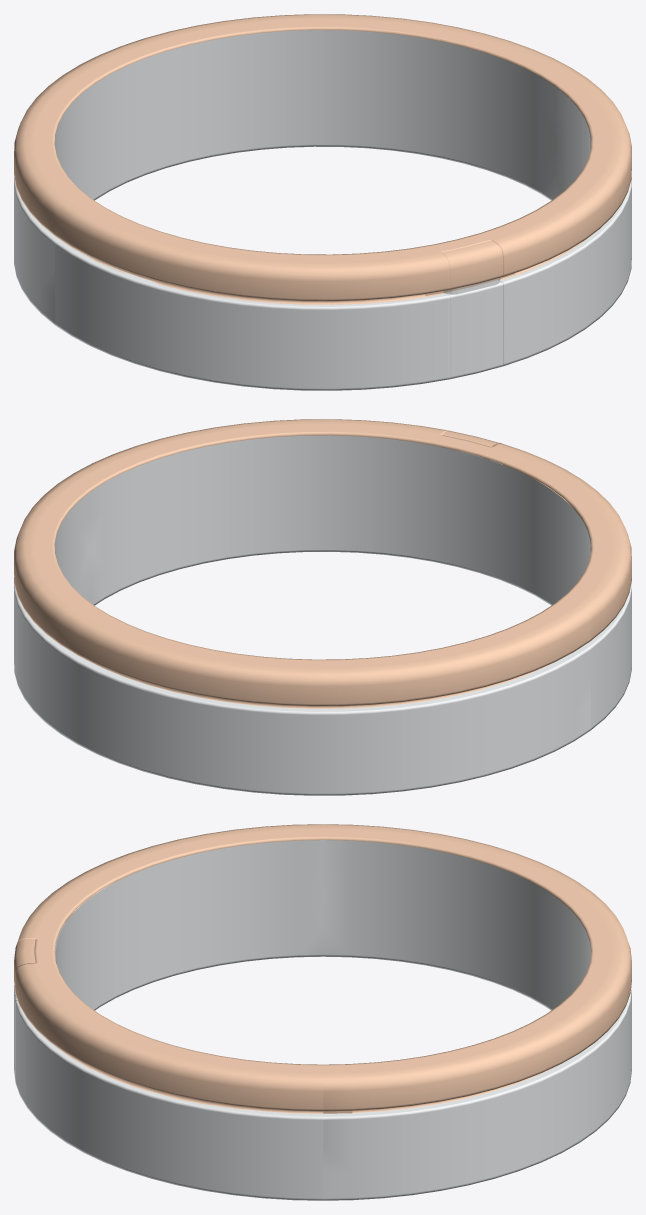
3 views of the same model, one above another, from view 1: azimuth 30°, elevation 25°; view 2: azimuth 150°, elevation 25°; view 3: azimuth 270°, elevation 25° (orthographic).
Visible parts, largest first — view 1: Engraving_Metal, Base_Metal, Finishing_Metal, Base_Metal_NoDiamond, Finishing_Metal_NoDiamond; view 2: Engraving_Metal, Base_Metal, Finishing_Metal, Base_Metal_NoDiamond, Finishing_Metal_NoDiamond; view 3: Engraving_Metal, Base_Metal, Finishing_Metal, Base_Metal_NoDiamond, Finishing_Metal_NoDiamond.
Boxes of the visible parts, x1,y1,x2,y2 form: Engraving_Metal: (54,30,590,199); Base_Metal: (14,113,631,390); Finishing_Metal: (14,14,631,304); Base_Metal_NoDiamond: (41,137,591,378); Finishing_Metal_NoDiamond: (41,67,605,295); Engraving_Metal: (54,435,590,604); Base_Metal: (14,577,631,795); Finishing_Metal: (14,419,631,708); Base_Metal_NoDiamond: (52,518,608,740); Finishing_Metal_NoDiamond: (44,430,600,651); Engraving_Metal: (55,840,591,1009); Base_Metal: (15,954,631,1200); Finishing_Metal: (15,824,631,1114); Base_Metal_NoDiamond: (14,923,590,1200); Finishing_Metal_NoDiamond: (14,824,353,1113).
Size of the model in its own units: 2.12 by 0.45 by 2.12.
